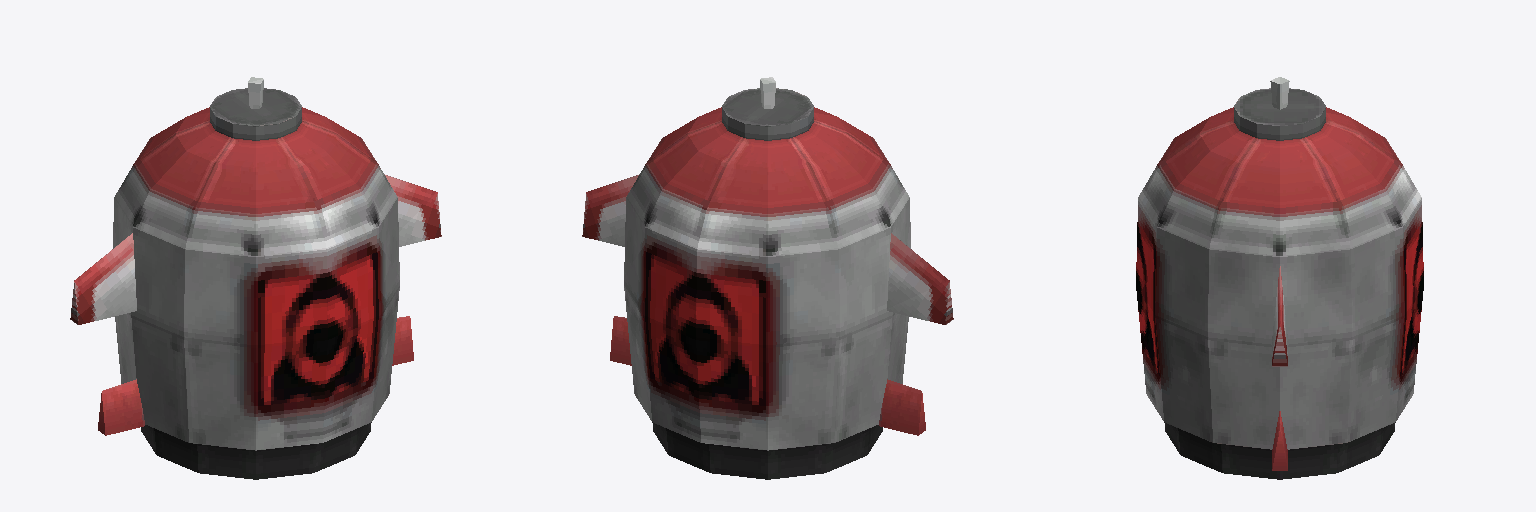
3 views of the same model, side by side, from view 1: azimuth 30°, elevation 25°; view 2: azimuth 150°, elevation 25°; view 3: azimuth 270°, elevation 25° (orthographic).
Parts seen in each view (by area): view 1: Object01; view 2: Object01; view 3: Object01.
Part boxes in pixels (x1,y1,x2,y2): Object01: (70, 77, 441, 479); Object01: (582, 77, 953, 479); Object01: (1136, 77, 1423, 479).
Size of the model in its own units: 26.02 by 24 by 17.87.
Materials: 1 (1 with a texture image).